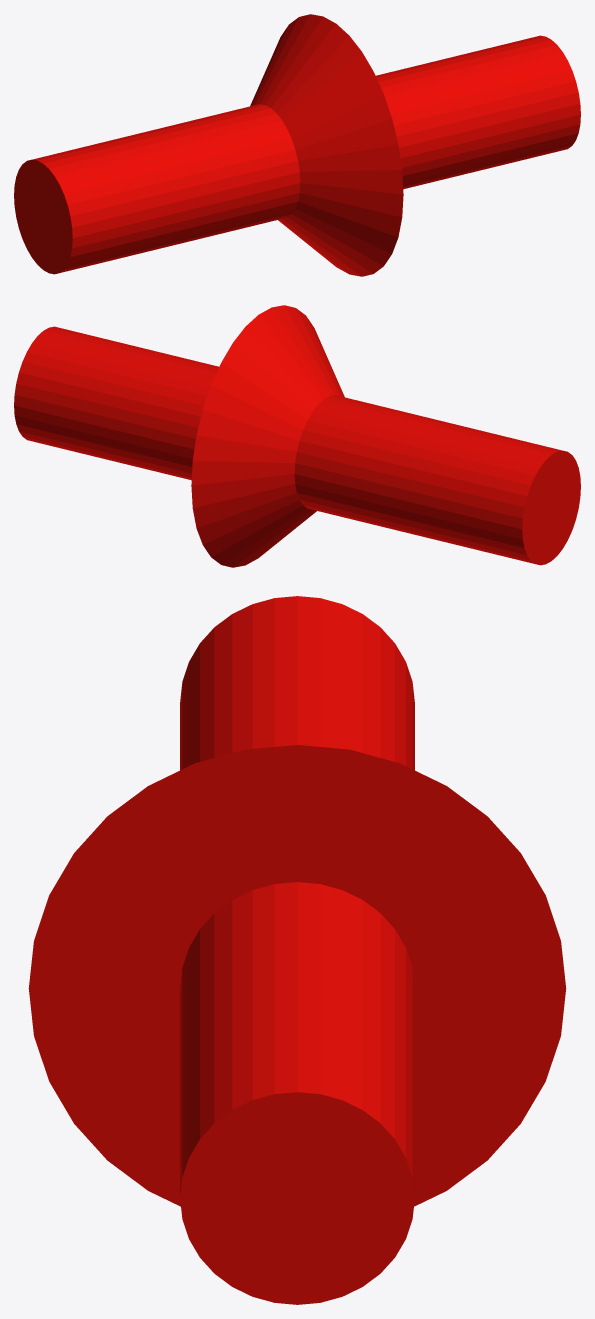
Rendered from arrow.glb.
3 views of the same model, one above another, from view 1: azimuth 30°, elevation 25°; view 2: azimuth 150°, elevation 25°; view 3: azimuth 270°, elevation 25° (orthographic). The views are drawn at different scales.
Visible parts, largest first — view 1: Cylinder; view 2: Cylinder; view 3: Cylinder.
Boxes of the visible parts, left/top/right/bottom form: Cylinder: left=14, top=14, right=580, bottom=276; Cylinder: left=14, top=305, right=580, bottom=567; Cylinder: left=28, top=596, right=566, bottom=1304.
Size of the model in its own units: 1 by 0.4578 by 0.4578.
